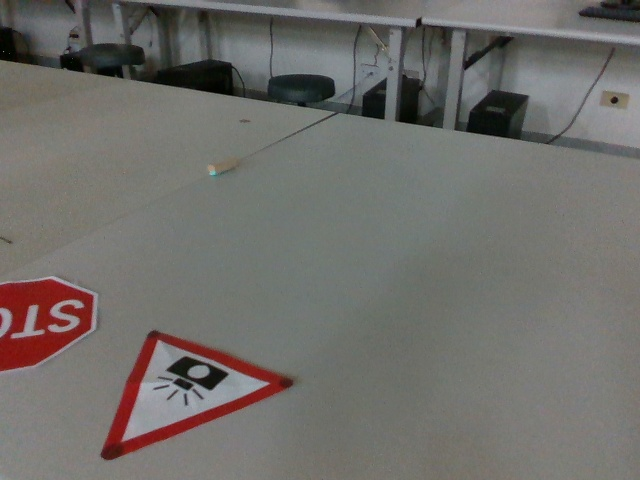camera: (96, 327, 293, 463)
